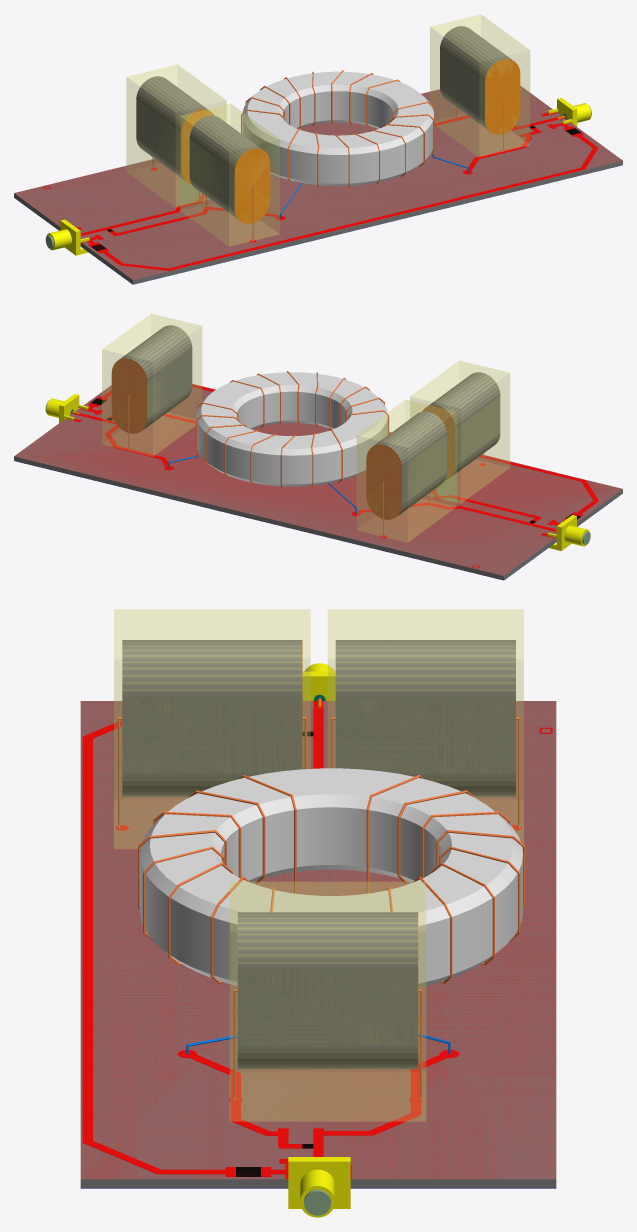
File: EMIFilter.glb
3 renders of one model, top to bottom at view 1: azimuth 30°, elevation 25°; view 2: azimuth 150°, elevation 25°; view 3: azimuth 270°, elevation 25°, orthographic. The views are drawn at different scales.
Visible parts, largest first — view 1: COMPOUND021, COMPOUND038, COMPOUND044, COMPOUND064, COMPOUND052, COMPOUND058, COMPOUND063, COMPOUND051, COMPOUND057, COMPOUND059, COMPOUND047, COMPOUND032 (+8 smaller); view 2: COMPOUND021, COMPOUND038, COMPOUND044, COMPOUND058, COMPOUND052, COMPOUND064, COMPOUND051, COMPOUND063, COMPOUND057, COMPOUND048, COMPOUND054, COMPOUND042 (+8 smaller); view 3: COMPOUND021, COMPOUND038, COMPOUND044, COMPOUND052, COMPOUND064, COMPOUND058, COMPOUND051, COMPOUND063, COMPOUND057, COMPOUND032, COMPOUND043, COMPOUND042 (+4 smaller).
Part boxes in pixels (x1=…): COMPOUND021: x1=14, y1=86, x2=622, y2=284; COMPOUND038: x1=15, y1=88, x2=622, y2=279; COMPOUND044: x1=242, y1=71, x2=433, y2=186; COMPOUND064: x1=180, y1=103, x2=279, y2=246; COMPOUND052: x1=430, y1=14, x2=529, y2=157; COMPOUND058: x1=126, y1=64, x2=226, y2=207; COMPOUND063: x1=189, y1=115, x2=262, y2=219; COMPOUND051: x1=440, y1=26, x2=513, y2=130; COMPOUND057: x1=136, y1=76, x2=208, y2=179; COMPOUND059: x1=234, y1=148, x2=270, y2=223; COMPOUND047: x1=485, y1=59, x2=520, y2=134; COMPOUND032: x1=97, y1=133, x2=598, y2=270; COMPOUND021: x1=14, y1=384, x2=622, y2=580; COMPOUND038: x1=15, y1=386, x2=621, y2=575; COMPOUND044: x1=196, y1=372, x2=387, y2=486; COMPOUND058: x1=357, y1=399, x2=456, y2=542; COMPOUND052: x1=102, y1=313, x2=201, y2=456; COMPOUND064: x1=410, y1=360, x2=509, y2=503; COMPOUND051: x1=119, y1=325, x2=192, y2=429; COMPOUND063: x1=427, y1=372, x2=500, y2=475; COMPOUND057: x1=374, y1=411, x2=446, y2=515; COMPOUND048: x1=111, y1=358, x2=147, y2=433; COMPOUND054: x1=366, y1=444, x2=401, y2=519; COMPOUND042: x1=196, y1=402, x2=342, y2=487; COMPOUND021: x1=80, y1=701, x2=556, y2=1188; COMPOUND038: x1=81, y1=701, x2=555, y2=1178; COMPOUND044: x1=140, y1=768, x2=523, y2=987; COMPOUND052: x1=230, y1=882, x2=425, y2=1121; COMPOUND064: x1=114, y1=609, x2=310, y2=848; COMPOUND058: x1=328, y1=609, x2=523, y2=848; COMPOUND051: x1=238, y1=912, x2=417, y2=1068; COMPOUND063: x1=122, y1=640, x2=302, y2=796; COMPOUND057: x1=335, y1=640, x2=515, y2=796; COMPOUND032: x1=82, y1=720, x2=235, y2=1176; COMPOUND043: x1=138, y1=774, x2=296, y2=983; COMPOUND042: x1=366, y1=774, x2=525, y2=983.
Size of the model in its own units: 0.19 by 0.0366 by 0.0726.
